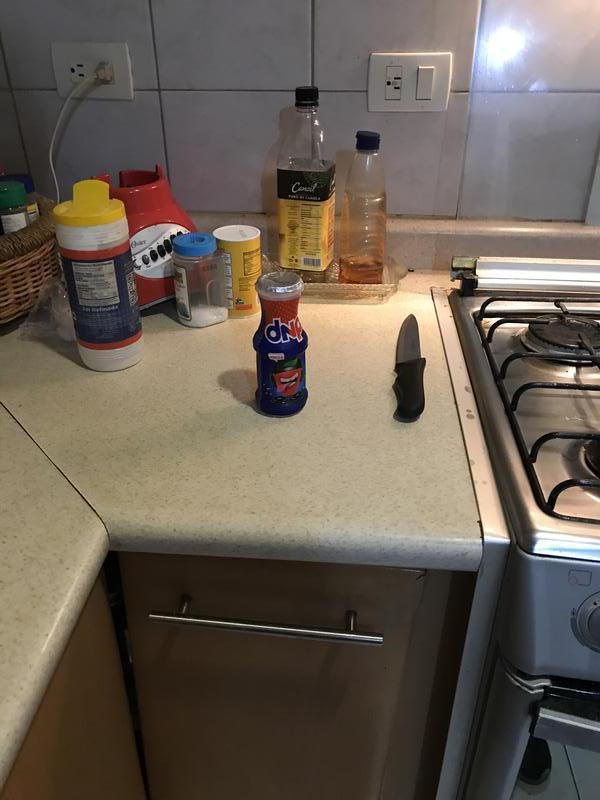danup: (250, 269, 312, 419)
